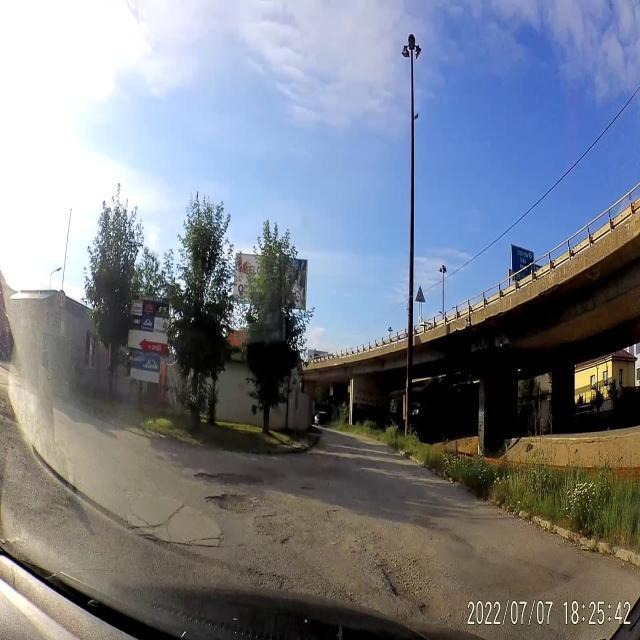Pothole: (372, 552, 447, 626), (190, 462, 272, 487), (208, 492, 258, 521), (298, 482, 322, 495)
